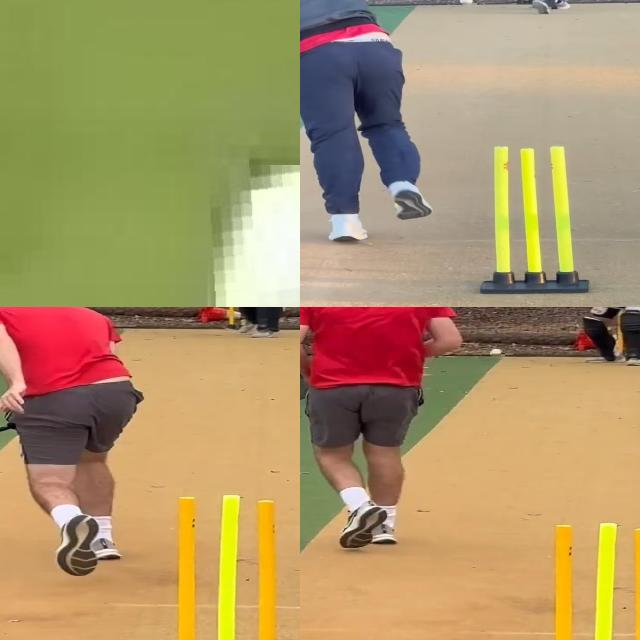Cricket ball: (198, 165, 300, 307), (487, 349, 505, 358), (457, 0, 476, 6)
Stumps: (155, 493, 291, 640), (474, 144, 592, 295), (532, 523, 640, 640)
